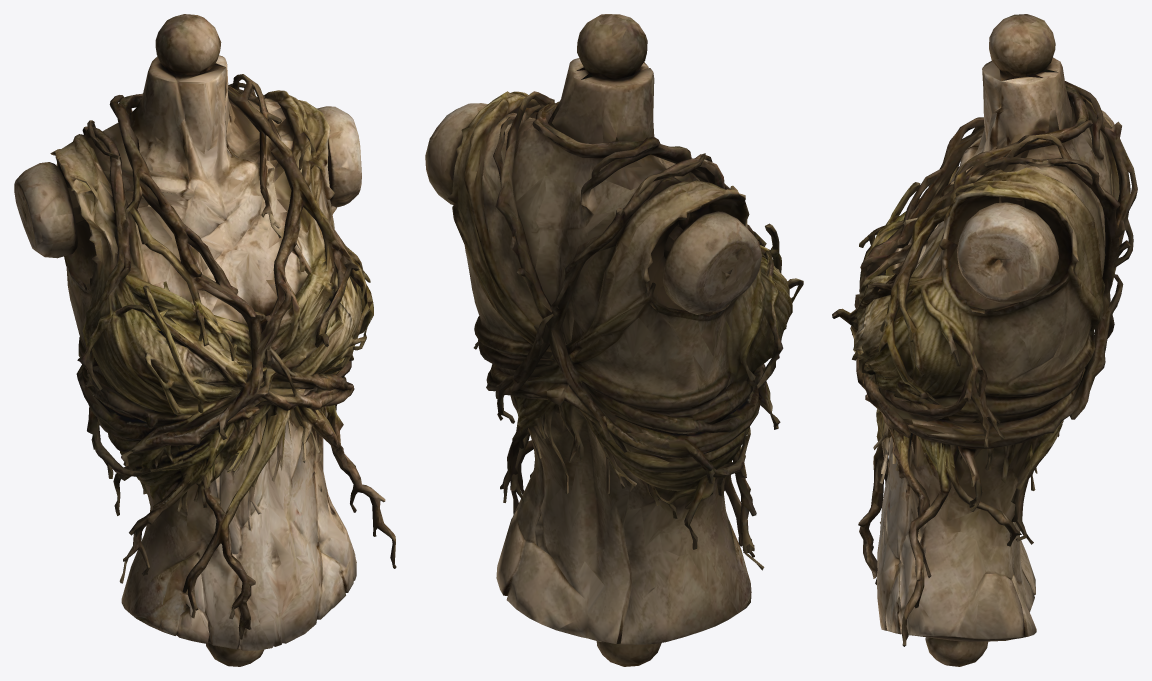
The model's file is torso.fbx.
The picture shows the model from 3 angles, left to right: view 1: azimuth 30°, elevation 25°; view 2: azimuth 150°, elevation 25°; view 3: azimuth 270°, elevation 25°; orthographic projection. The views are drawn at different scales.
Parts seen in each view (by area): view 1: Part; view 2: Part; view 3: Part.
Boxes of the visible parts, x1,y1,x2,y2 form: Part: (14,14,396,666); Part: (425,14,803,666); Part: (832,14,1137,666).
Bounding box in the file's own units: 0.3374 × 0.65 × 0.2814.
